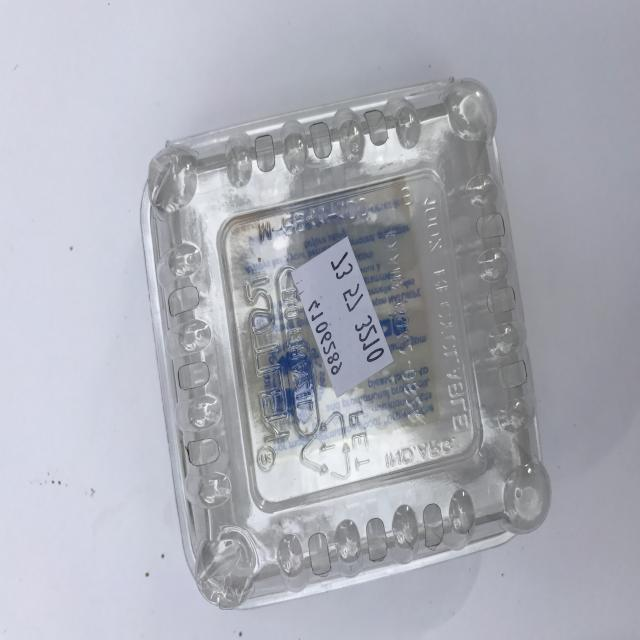plastic: (141, 77, 551, 610)
